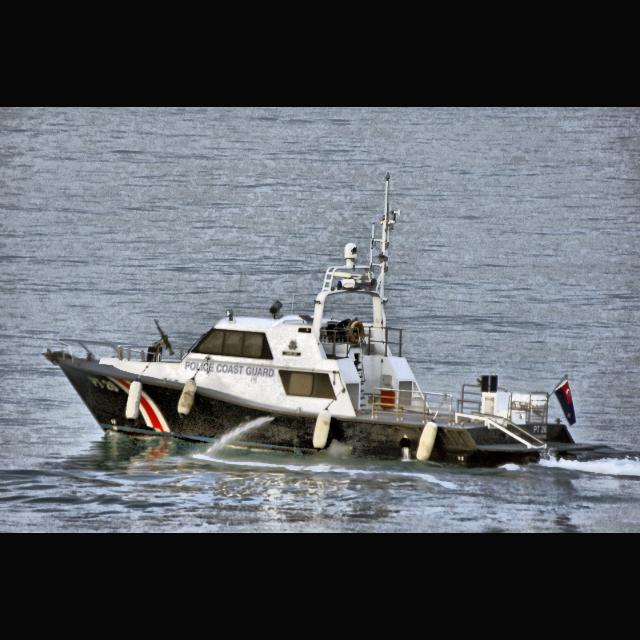patrol_vessel: (42, 172, 590, 474)
